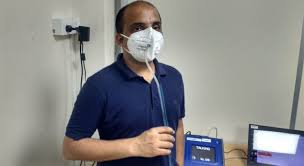mask: (107, 2, 178, 64)
